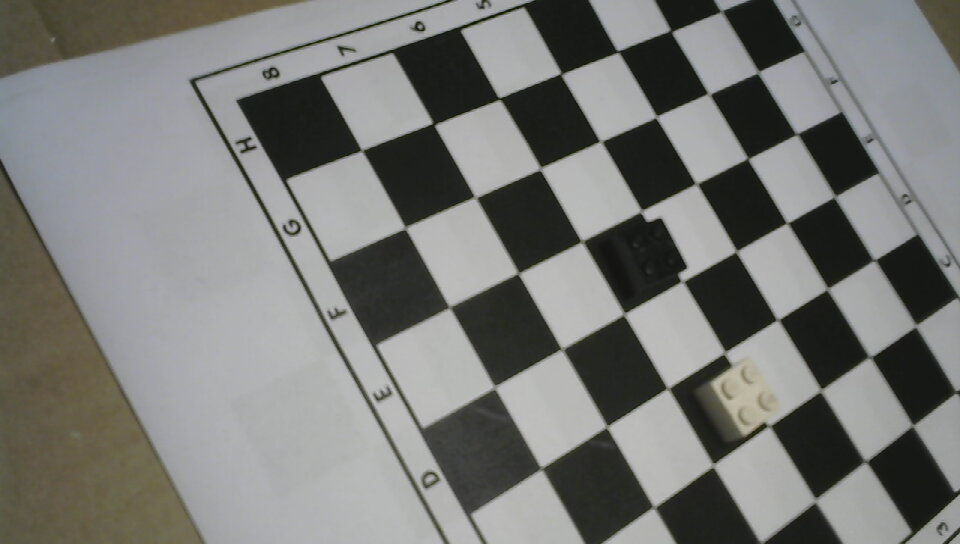bp: (605, 213, 689, 303)
